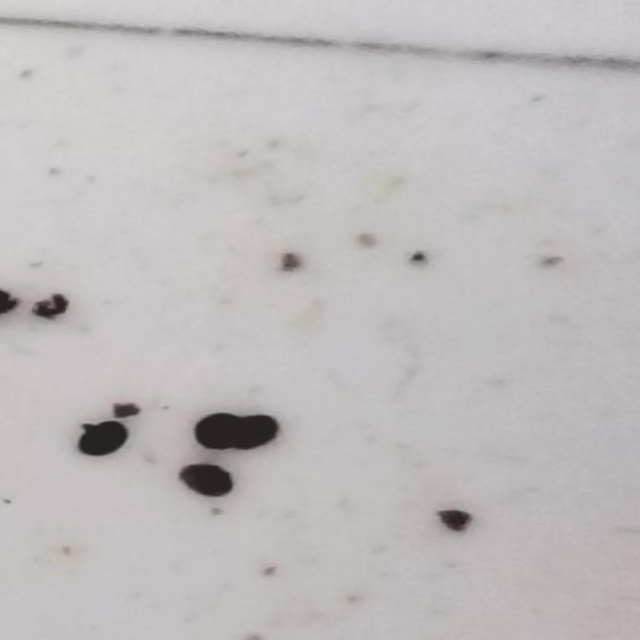varroa: (174, 456, 237, 497), (186, 407, 245, 450), (228, 408, 278, 451), (74, 417, 129, 456)
